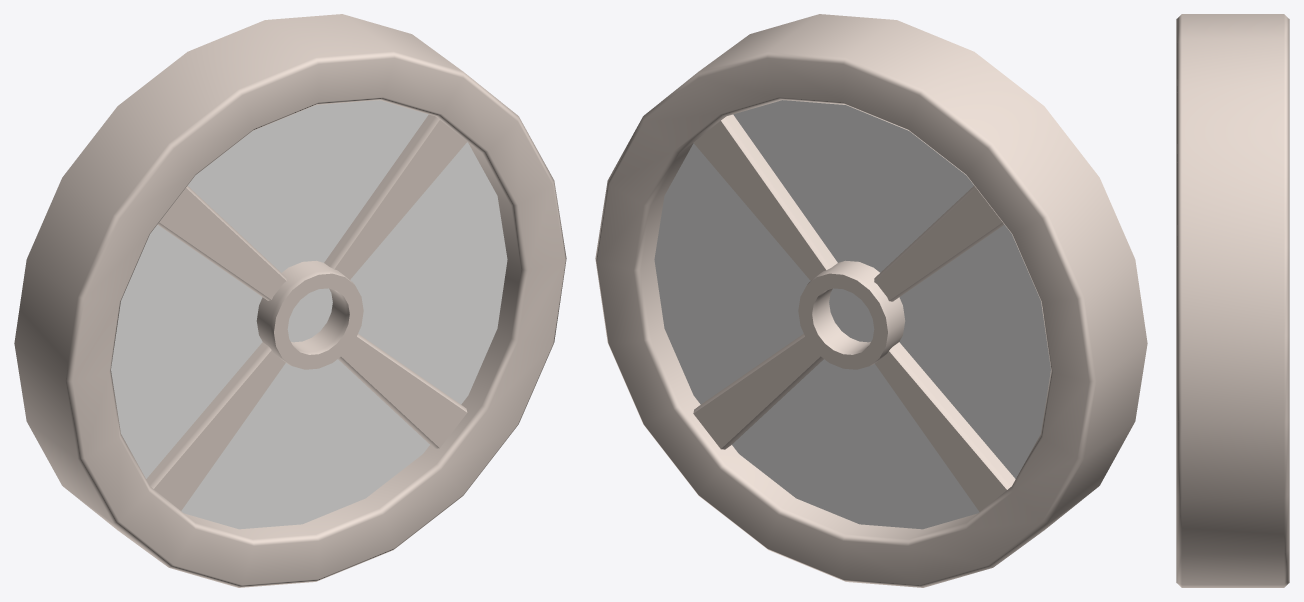
The model's file is Window_6.glb.
The picture shows the model from 3 angles, left to right: view 1: azimuth 30°, elevation 25°; view 2: azimuth 150°, elevation 25°; view 3: azimuth 270°, elevation 25°; orthographic projection.
Visible parts, largest first — view 1: Window_6; view 2: Window_6; view 3: Window_6.
Part boxes in pixels (bbox=[...]): Window_6: bbox=[14, 14, 566, 587]; Window_6: bbox=[595, 14, 1147, 587]; Window_6: bbox=[1176, 14, 1289, 587].
Bounding box in the file's own units: 1.51 × 1.51 × 0.2953.
Materials: 2 (2 with a texture image).
